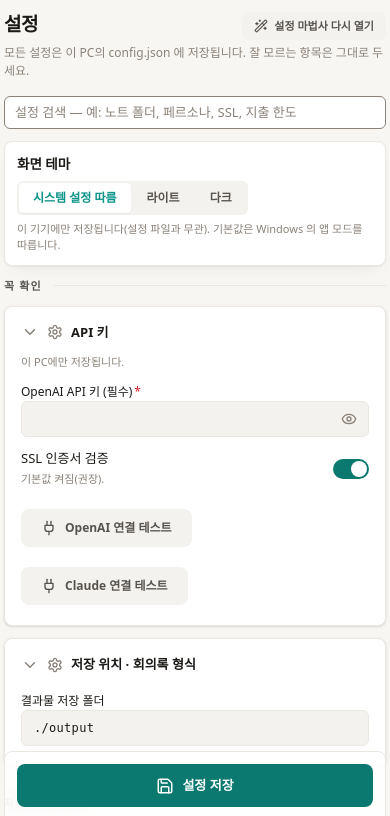
Test: 설정 검색 — 어떤 설정이든 도달한다 › 라벨로 찾는다
Expected: the button "API 키" is shown, 5,306 -> 385,358
Step 1. Type "페르소나" into the field labelled "설정 검색" → (195, 113), box 4,96 -> 386,129
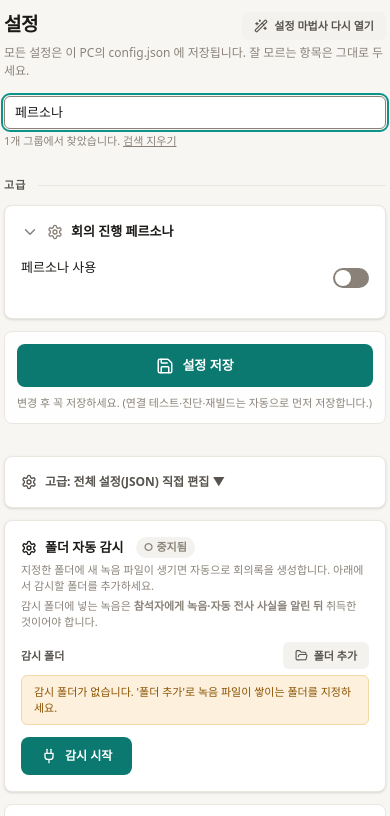
Expected: the button "회의 진행 페르소나" is shown, 5,206 -> 385,258
Result: the button "저장 위치" is gone
